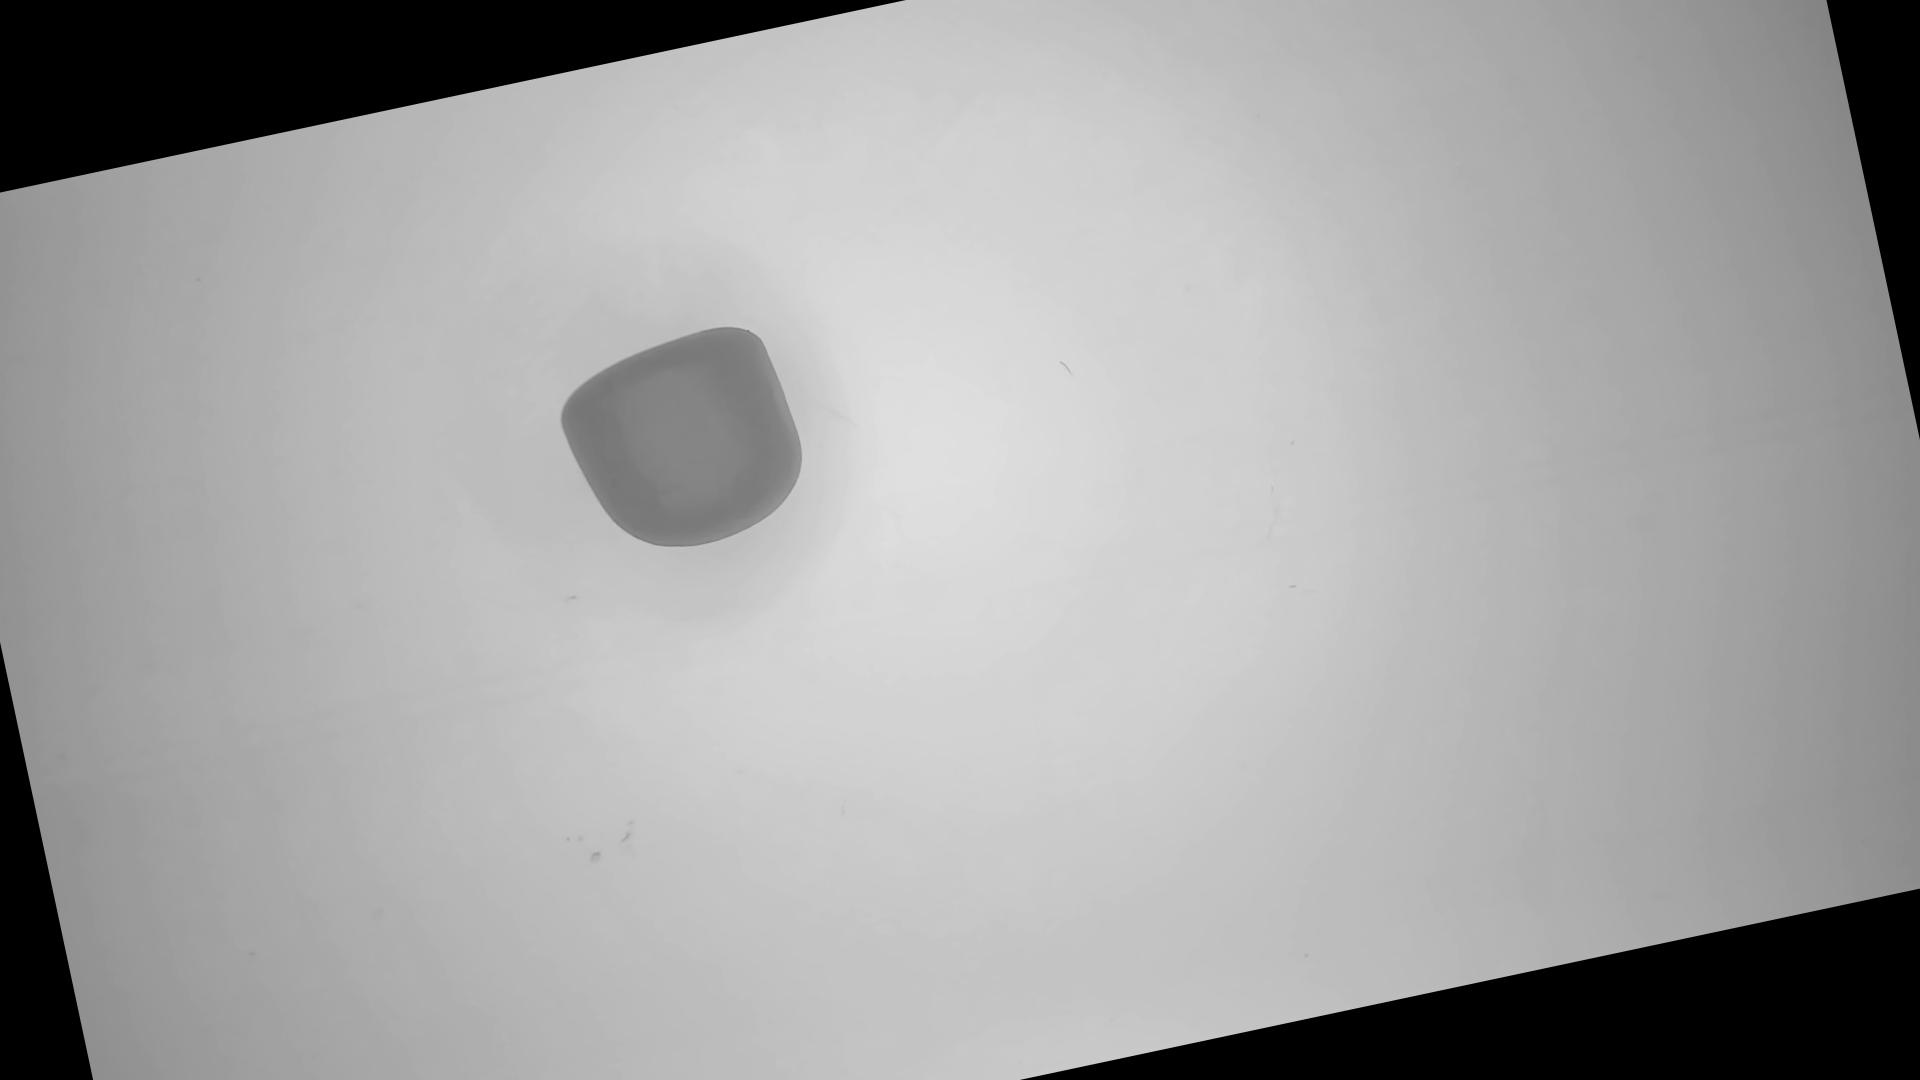normal: (546, 311, 822, 572)
